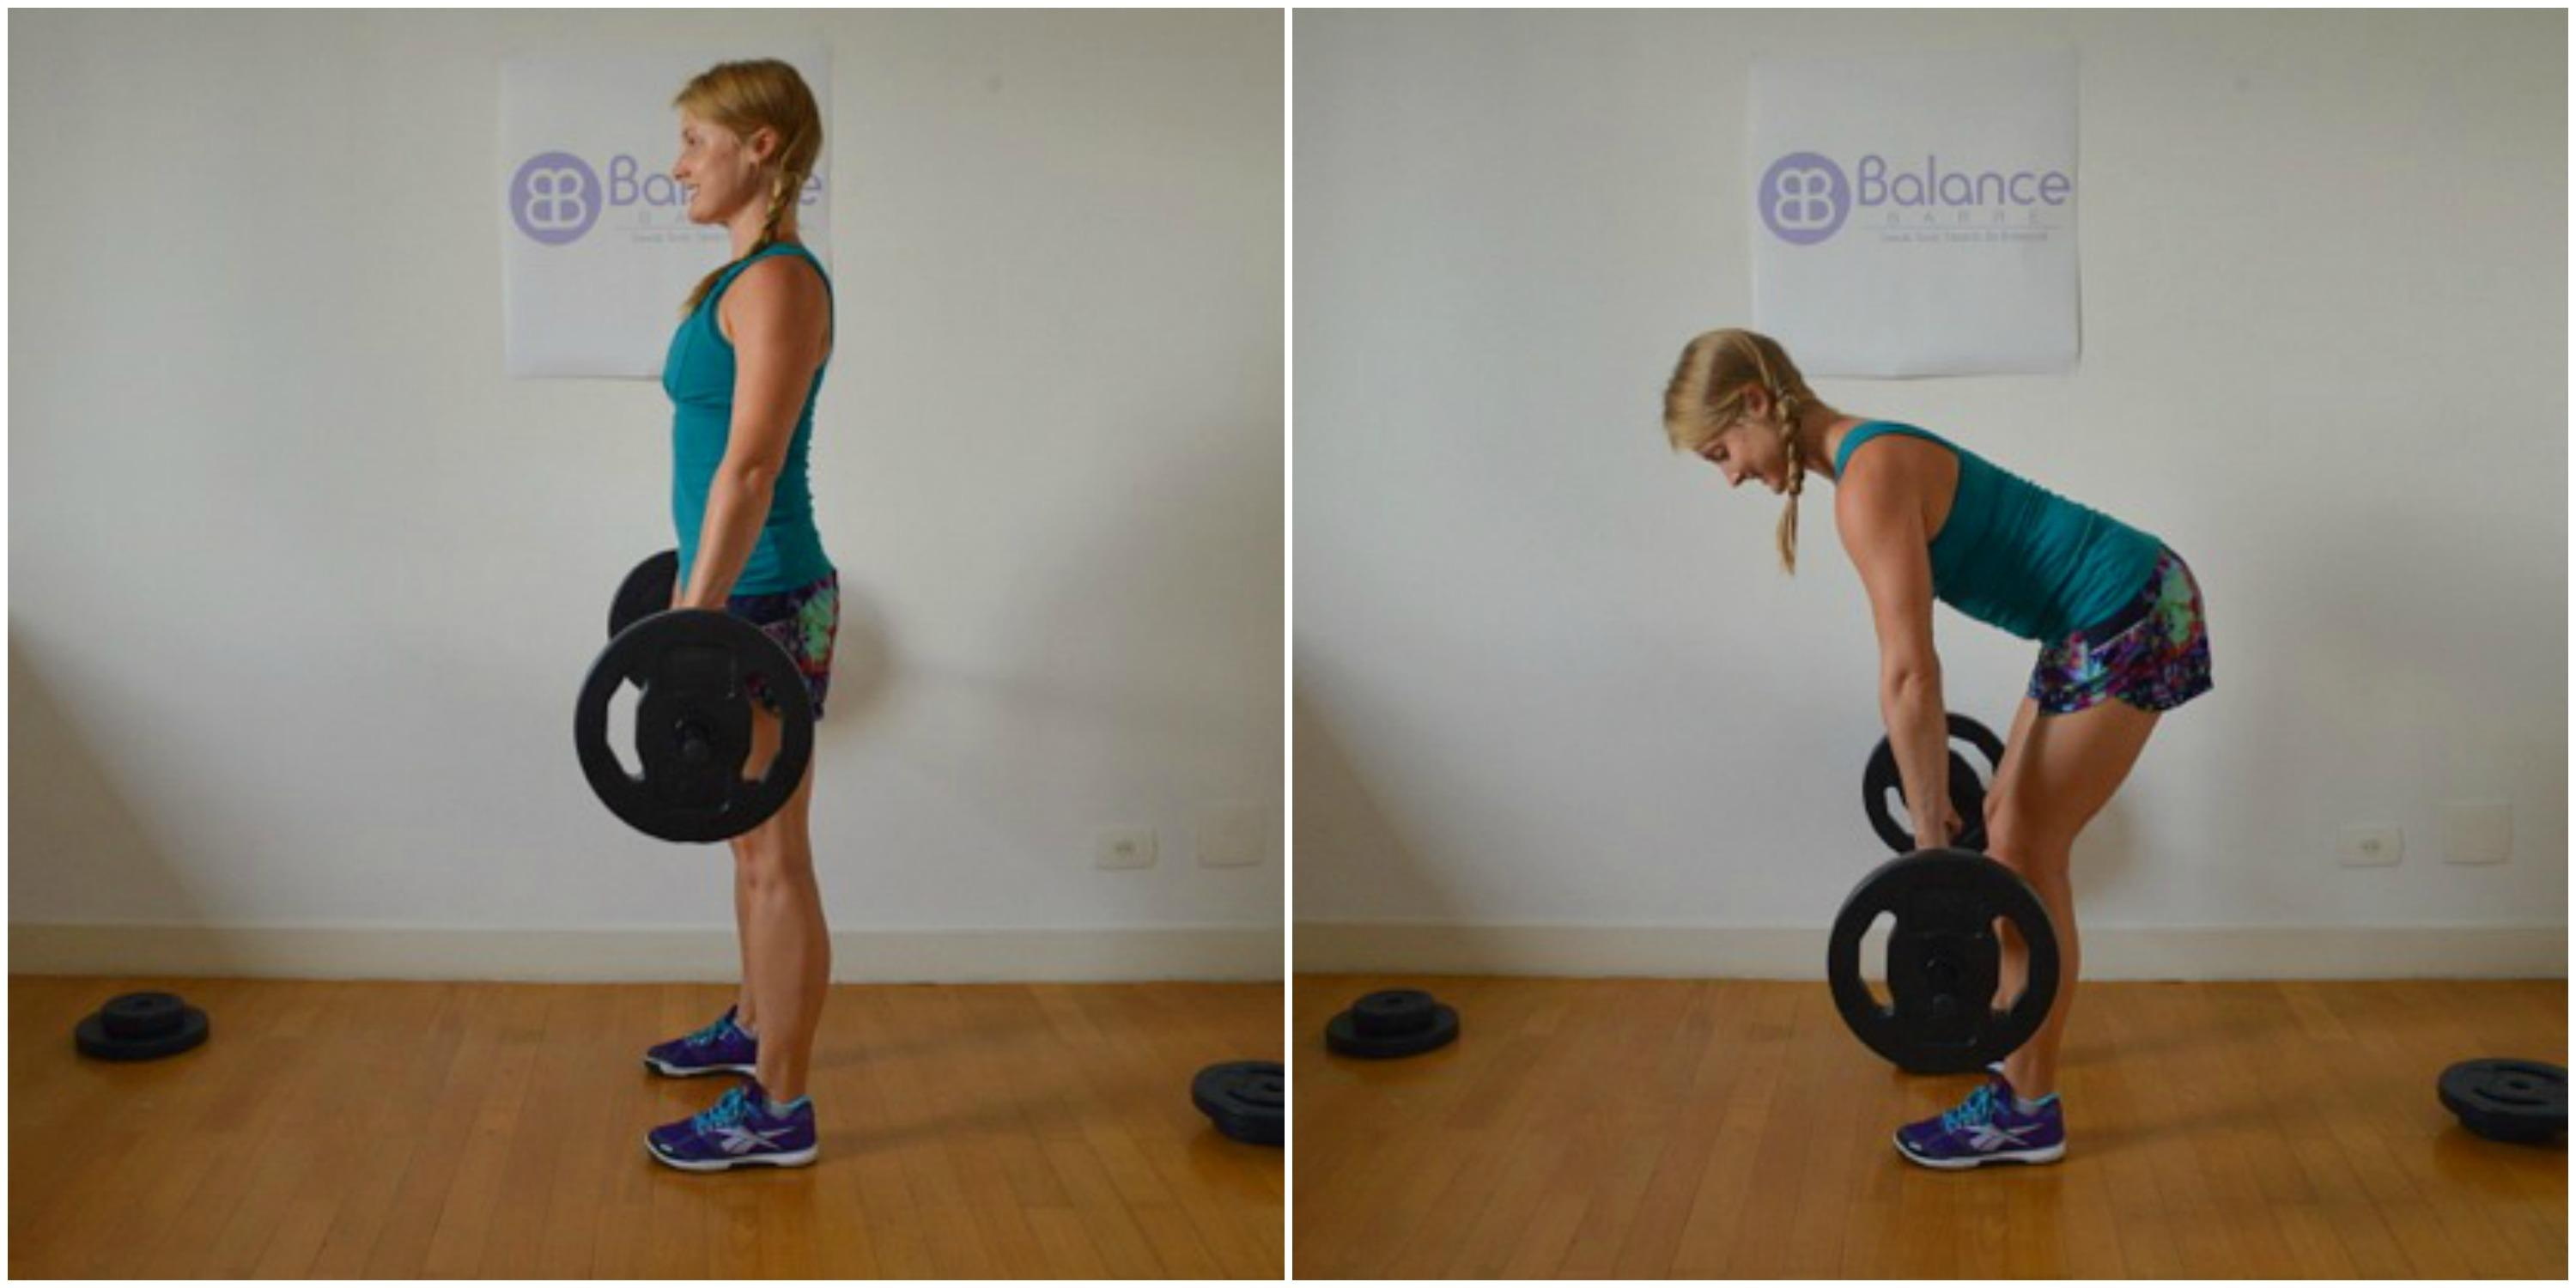Barbell: (662, 738, 724, 774), (1920, 984, 1967, 1025)
